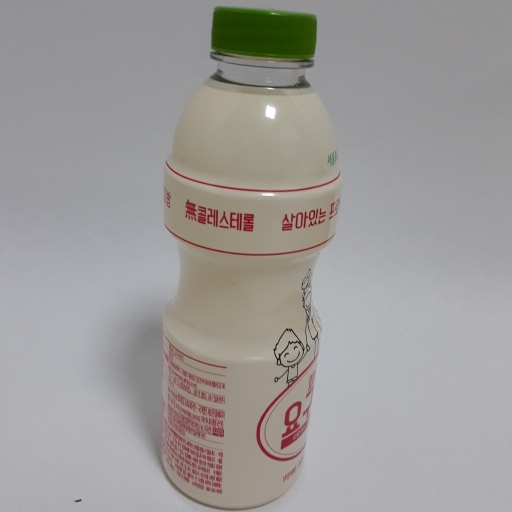Plastic_0: (150, 4, 346, 512)
